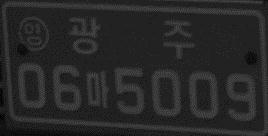0: (187, 70, 220, 120), (151, 68, 183, 119), (17, 62, 49, 109)
5: (114, 66, 146, 115)
6: (51, 64, 82, 112)
9: (224, 72, 259, 122)
광주_D: (69, 16, 194, 59)
마: (84, 70, 110, 109)
영: (17, 15, 50, 52)
